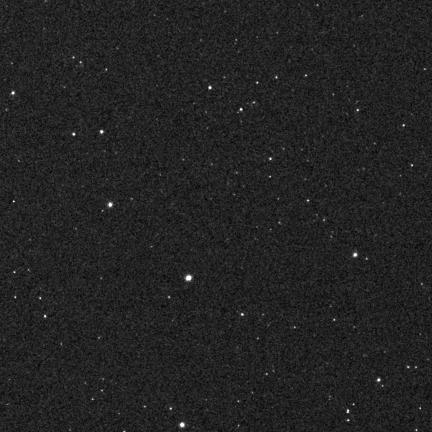blob: (185, 275, 192, 281)
